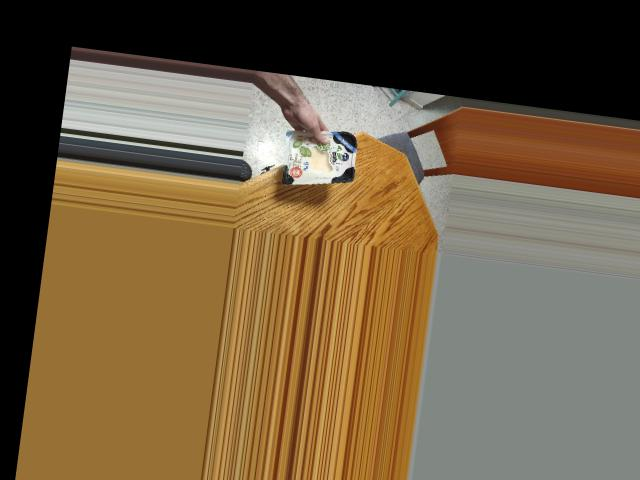cheese: (271, 120, 370, 194)
